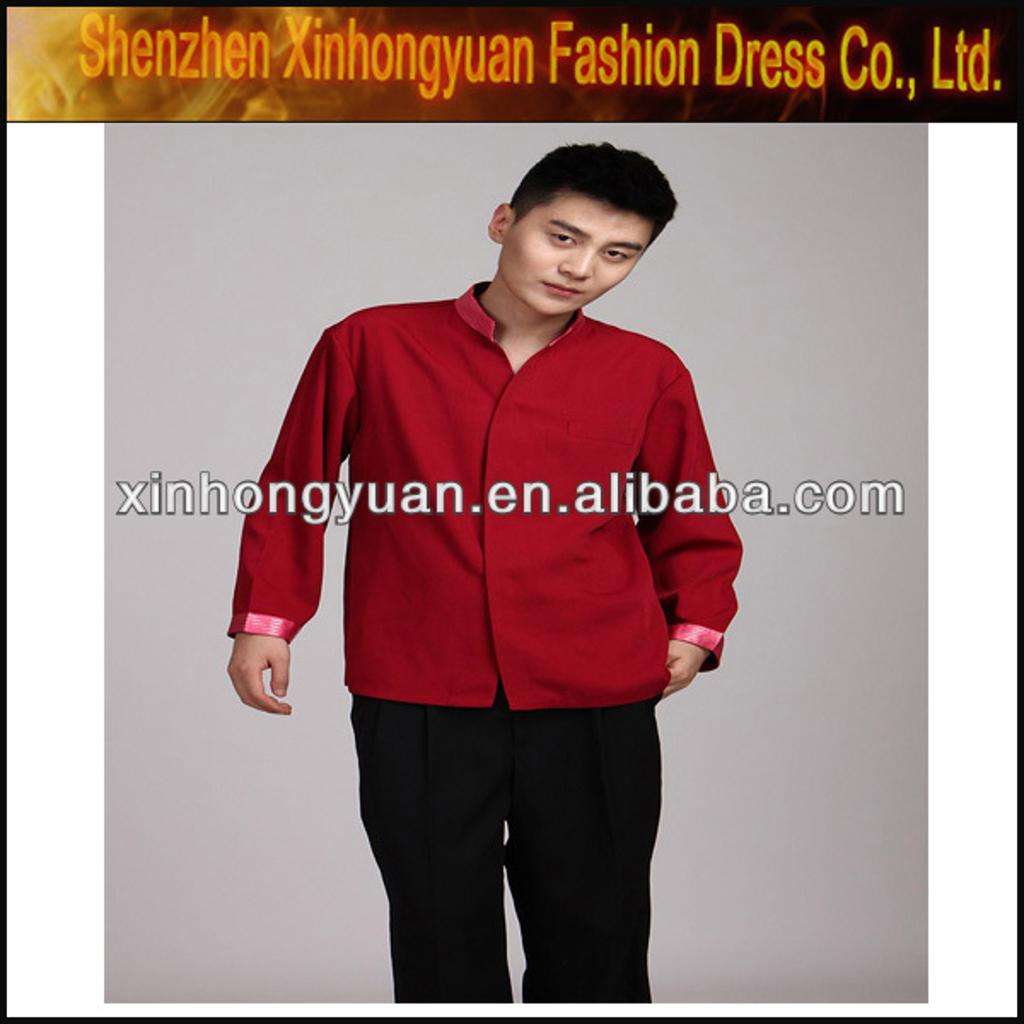face: (500, 192, 652, 316)
